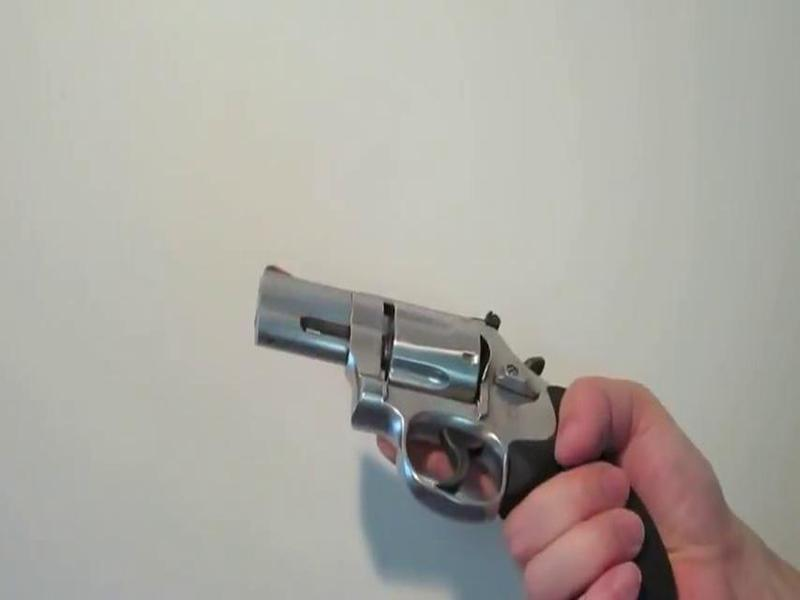Revolver: (245, 213, 654, 574)
